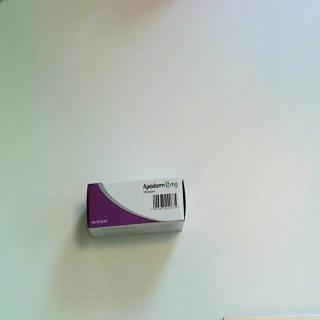apodonorm5mg: (86, 176, 188, 241)
